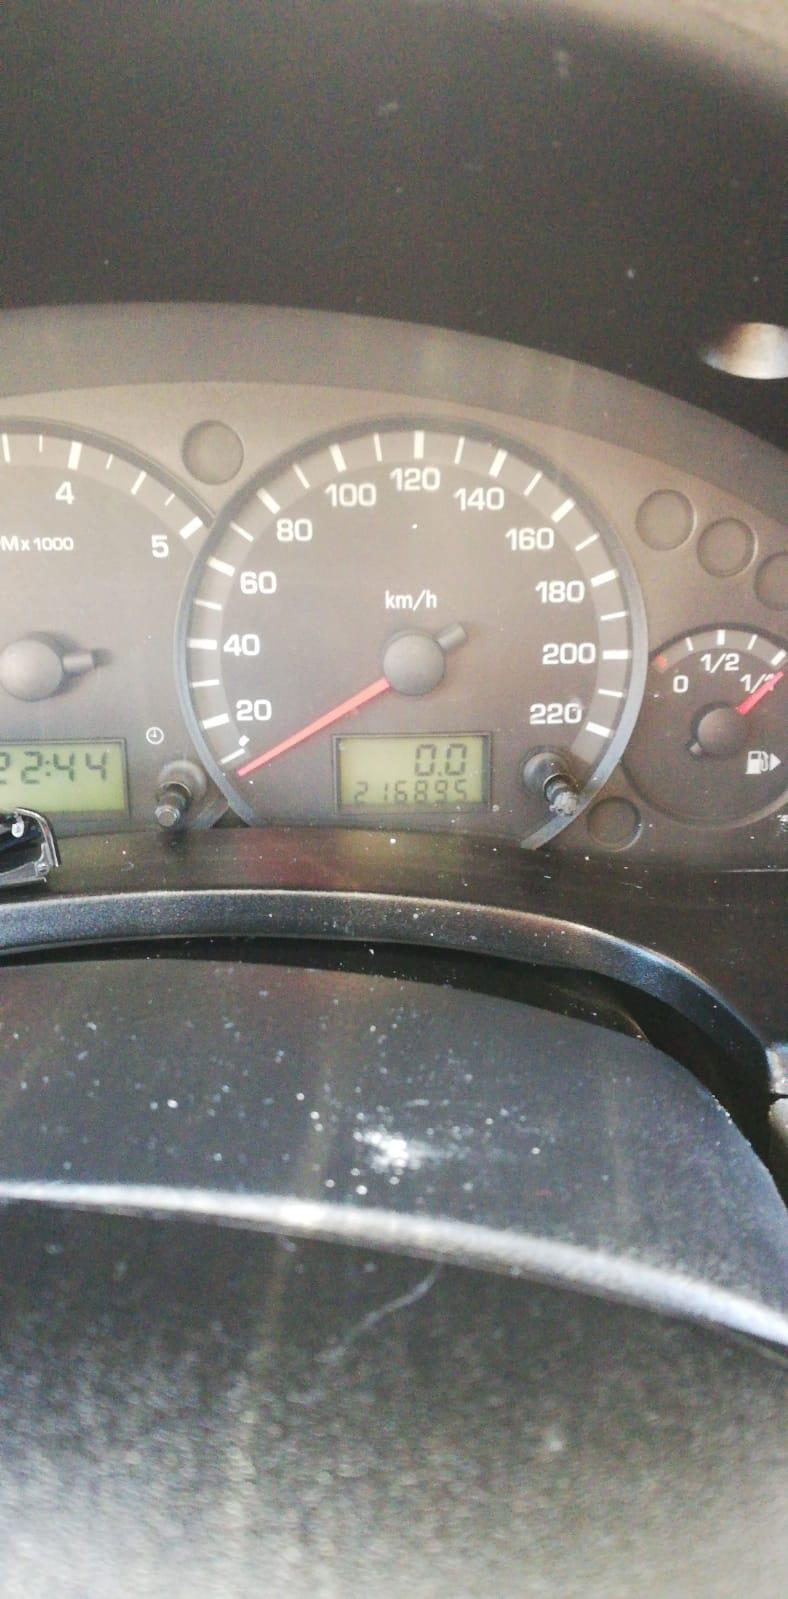,: (436, 771, 443, 777)
0: (414, 742, 437, 776), (445, 742, 467, 775)
1: (382, 781, 389, 804)
2: (353, 780, 369, 805)
5: (454, 778, 468, 803)
6: (393, 779, 408, 803)
8: (414, 779, 428, 803)
9: (434, 779, 448, 803)
odometer: (330, 730, 492, 819)
